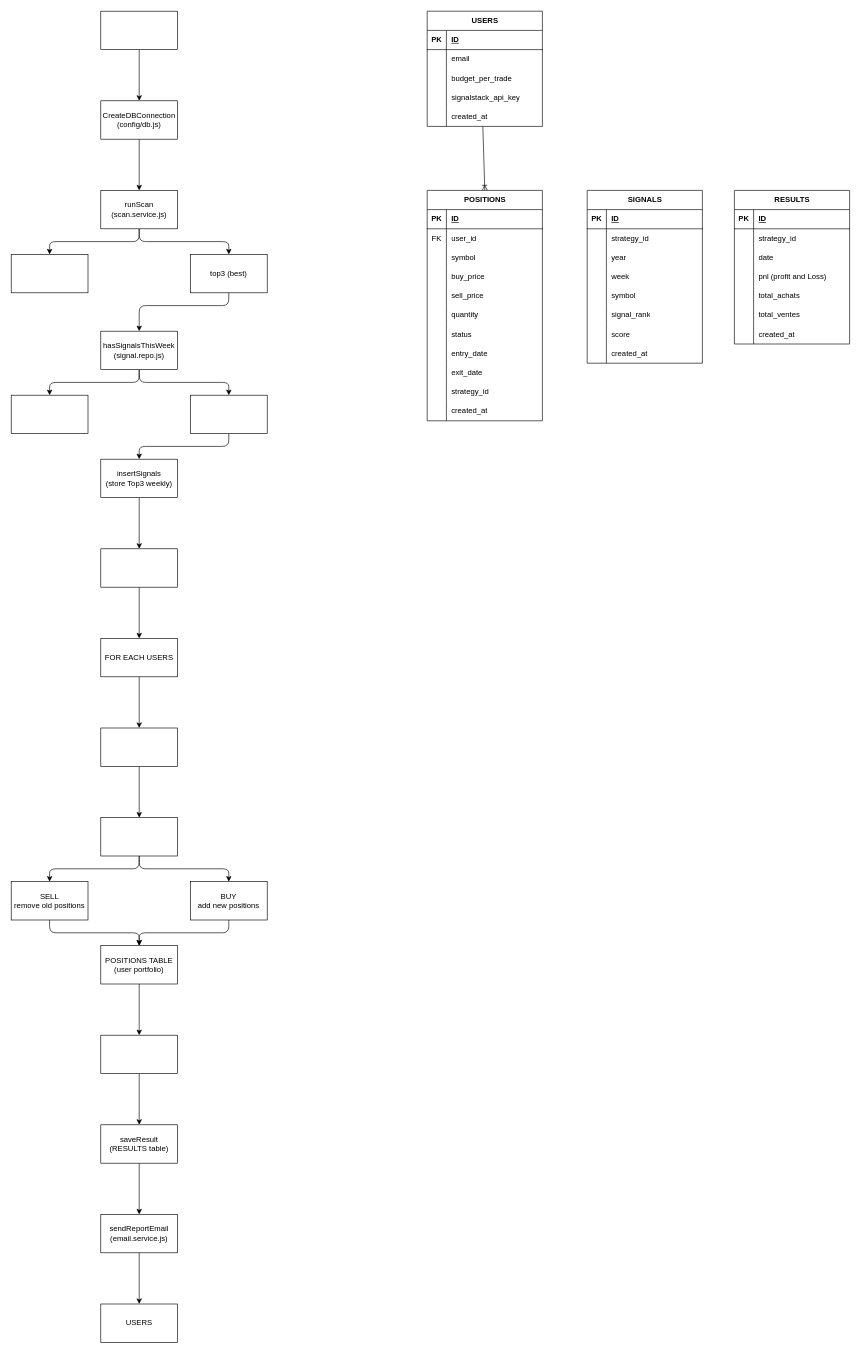
Some shapes in this 861 by 1354 pixel diagram are drawn without their labels. Here are the shapes that lost their labels. From the top down, the centre of each, then its label:
At point 139,30: "startAnalysis (index.js)".
At point 49,273: "results (all)".
At point 49,414: "Already done → Stop".
At point 228,414: "Not done → Continue".
At point 139,567: "getAllusers (user.repo.js)".
At point 139,746: "getOpenPosition (per user)".
At point 139,836: "executeTrades (trade.service.js)".
At point 139,1054: "buildReport (report.service.js)".
